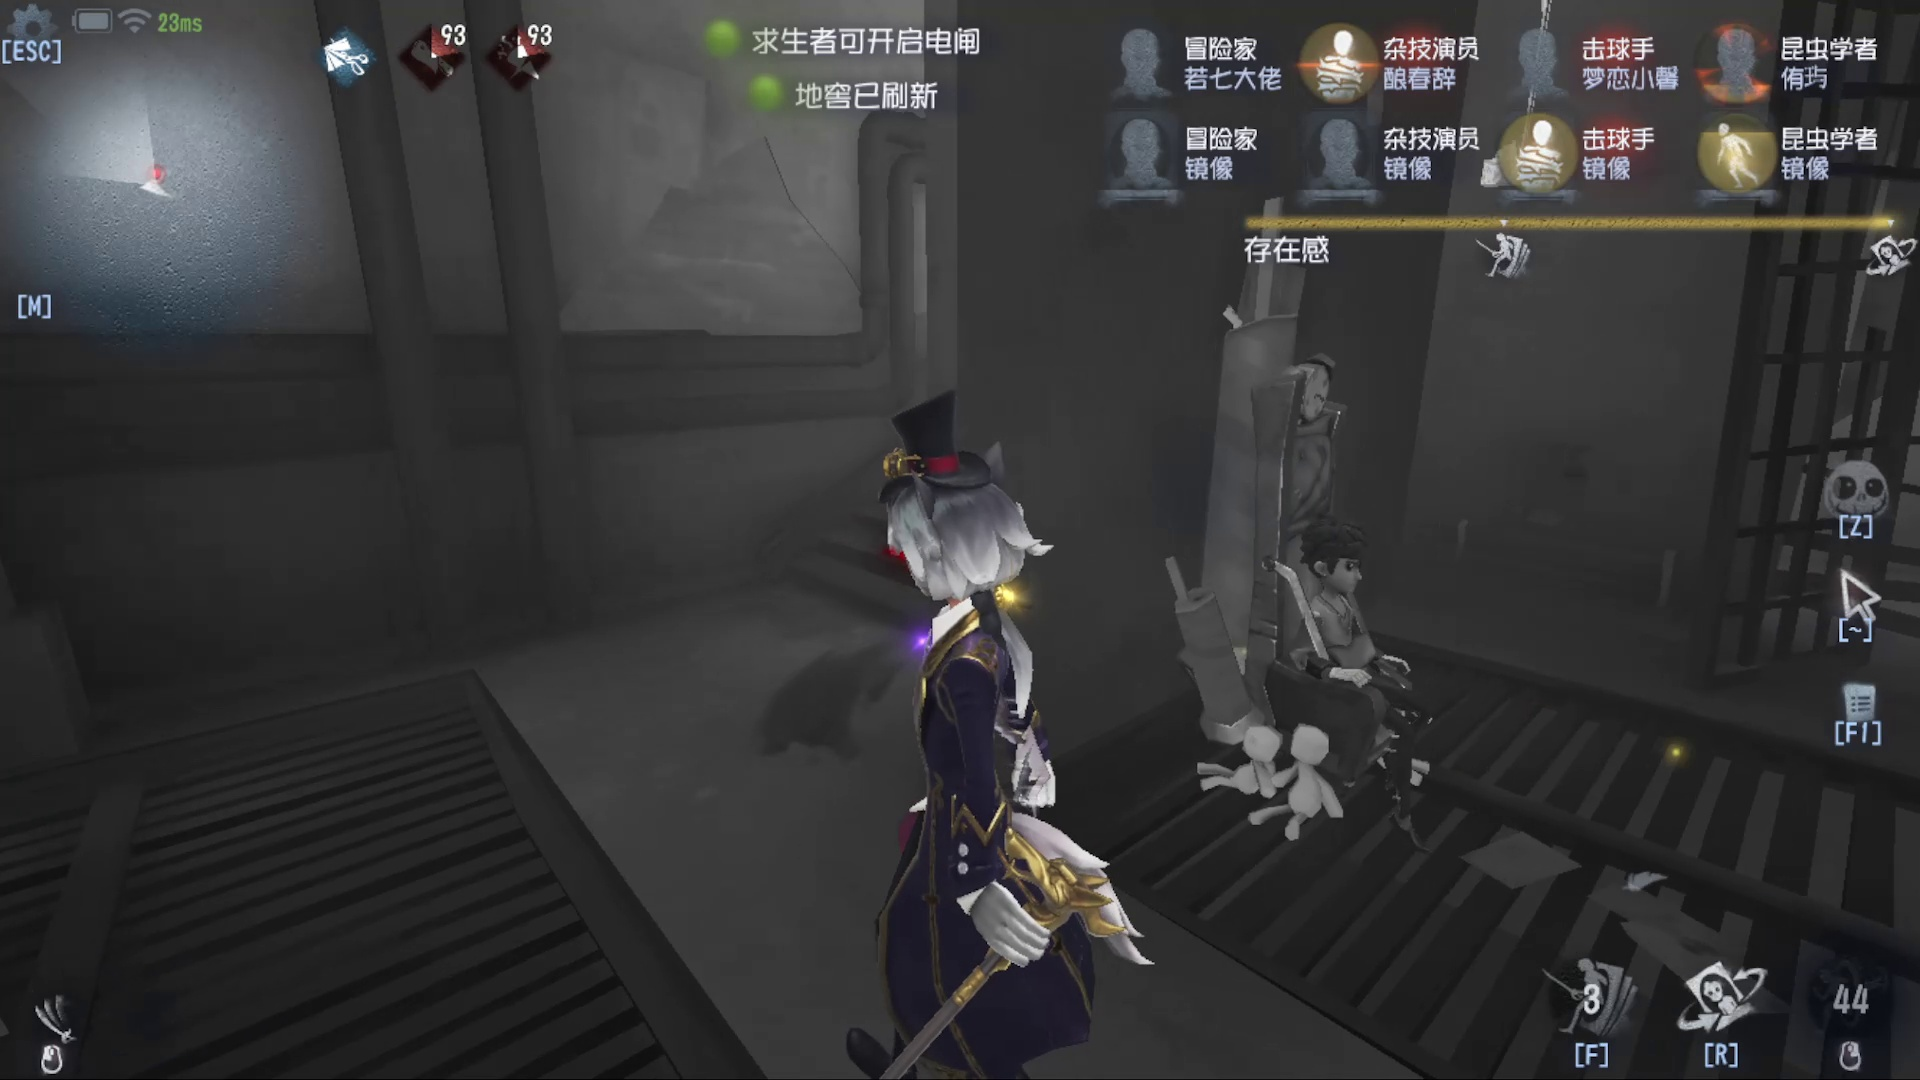求生者: (1298, 527, 1395, 731)
